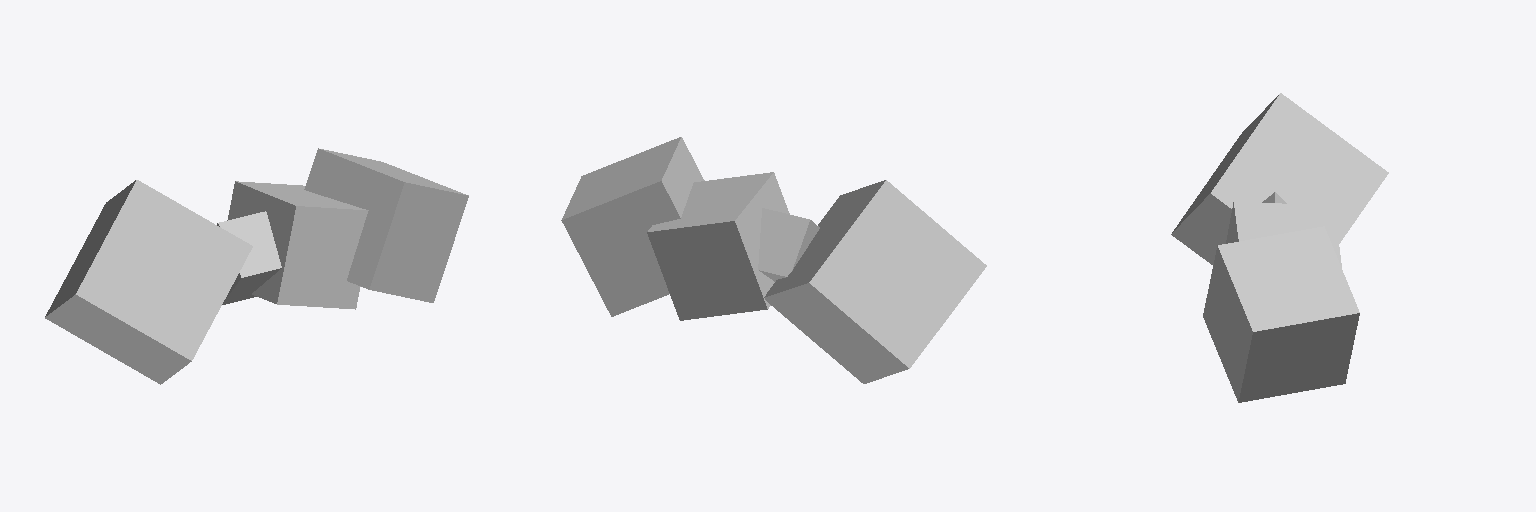
File: cloud2.obj
3 renders of one model, left to right at view 1: azimuth 30°, elevation 25°; view 2: azimuth 150°, elevation 25°; view 3: azimuth 270°, elevation 25°, orthographic.
Parts seen in each view (by area): view 1: Cube_Cube.000; view 2: Cube_Cube.000; view 3: Cube_Cube.000.
Boxes of the visible parts, <box> form: Cube_Cube.000: <box>45,148,468,384</box>; Cube_Cube.000: <box>561,137,986,383</box>; Cube_Cube.000: <box>1171,93,1388,402</box>.
Bounding box in the file's own units: 6.83 × 3.44 × 3.23.